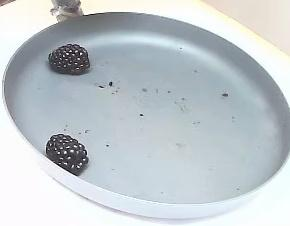berry: (46, 134, 87, 173), (48, 44, 89, 74)
